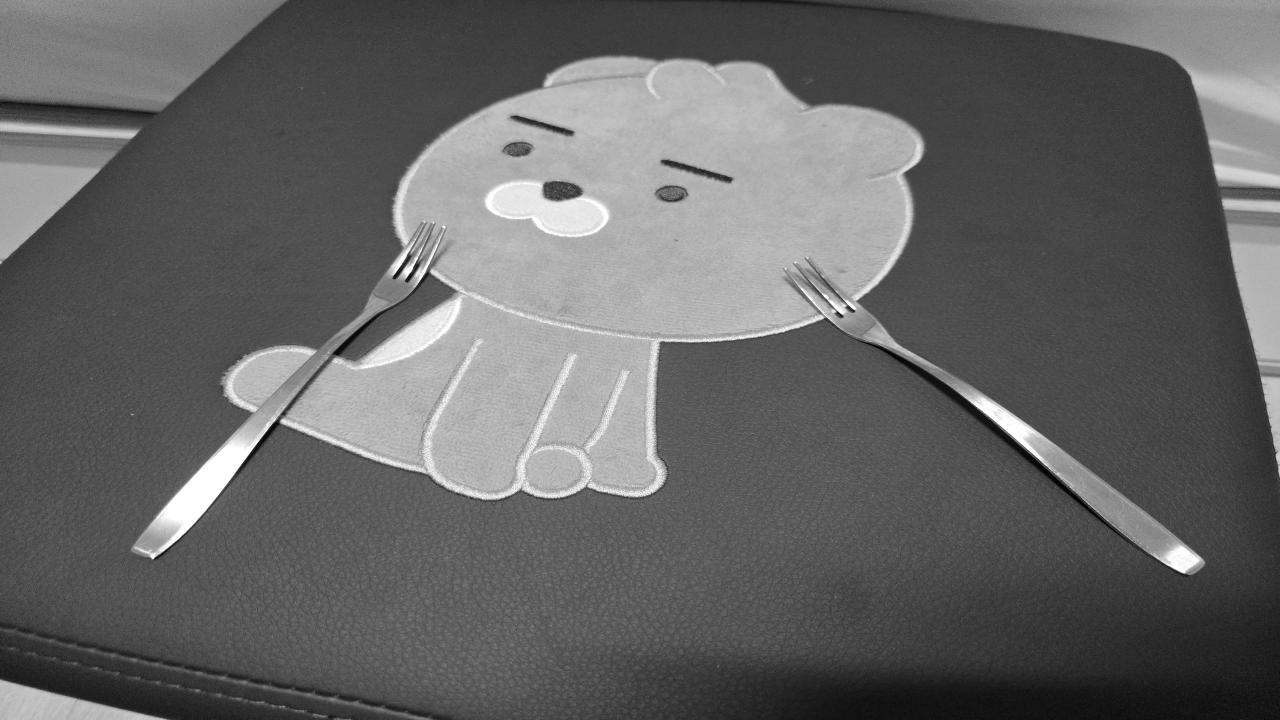fork: (783, 260, 1203, 573), (133, 221, 444, 557)
